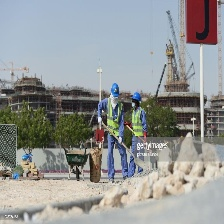helmet: (111, 84, 120, 97), (134, 94, 141, 101)
person: (105, 81, 129, 180), (130, 92, 149, 161)
vest: (106, 99, 121, 138), (132, 107, 144, 137)
